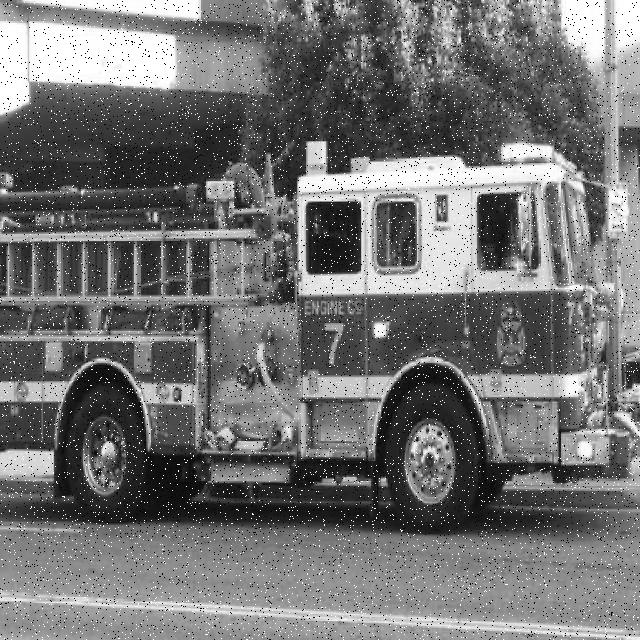Fire Truck: (0, 141, 637, 533)
